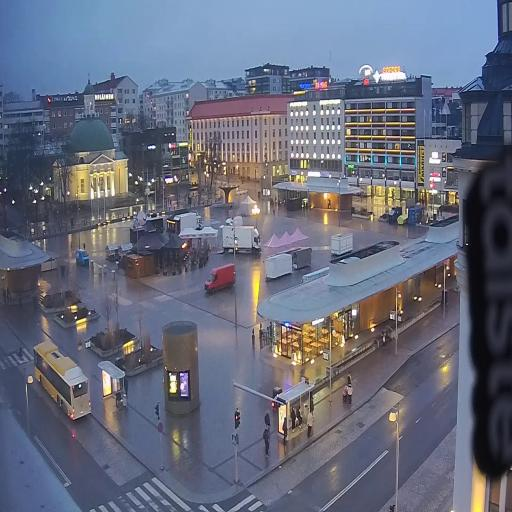bus: (31, 336, 95, 429)
delivery: (202, 260, 238, 300), (220, 225, 264, 253), (173, 206, 205, 239), (72, 244, 90, 271), (223, 213, 245, 231)
